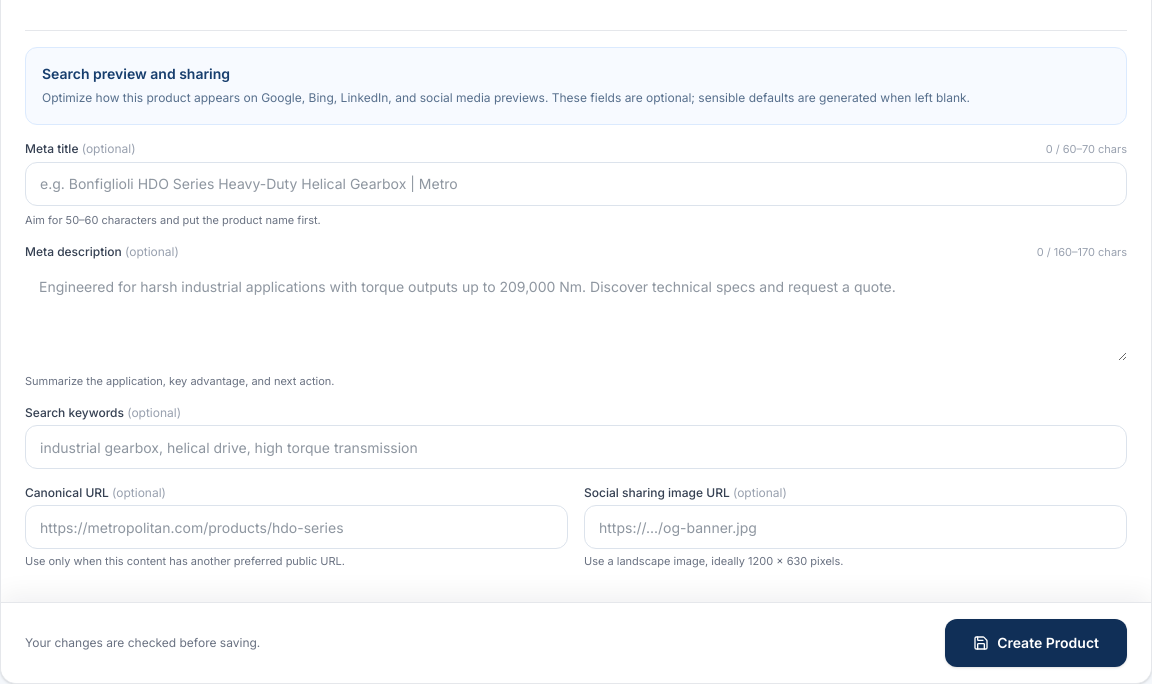
Test: ProductForm › shows clear inline errors when required fields are missing
(page scrolled)
Click the button "Create Product".
click(1036, 642)  # box x1=945 y1=618 x2=1127 y2=666
(page scrolled)
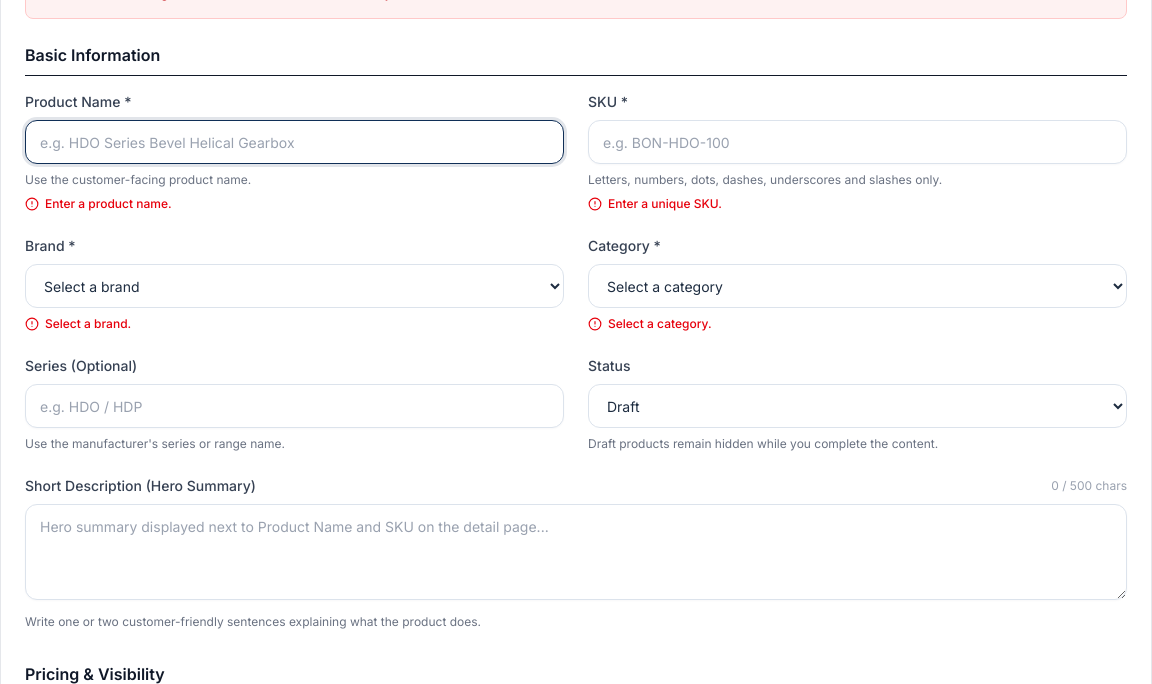
Now the text "Enter a product name." is shown, box x1=25 y1=196 x2=172 y2=211
Now the text "Enter a unique SKU." is shown, box x1=588 y1=196 x2=722 y2=211
Now the text "Select a brand." is shown, box x1=25 y1=316 x2=131 y2=331
